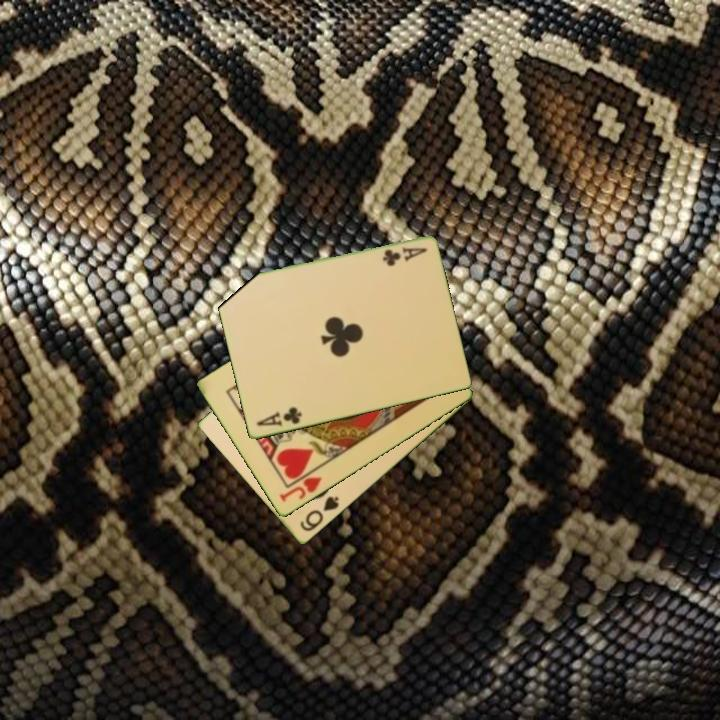6s: (296, 493, 342, 535)
Ac: (253, 403, 304, 430), (379, 244, 430, 269)
Jh: (276, 465, 325, 506)
